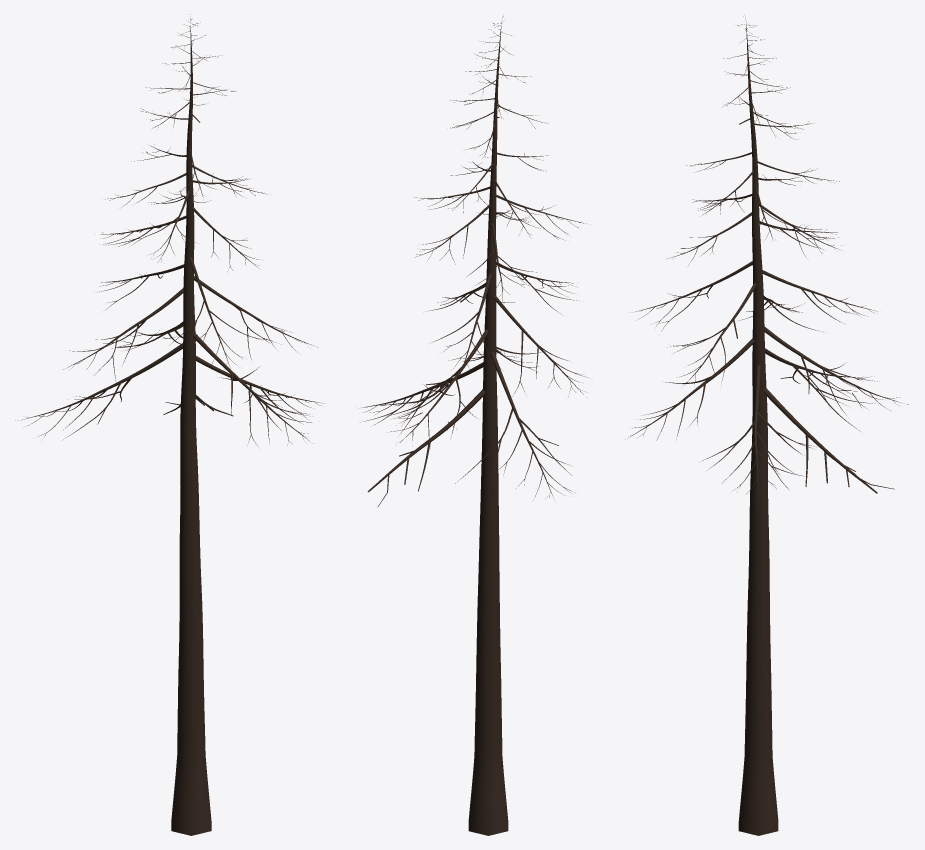
The model's file is deadtreev2.fbx.
3 views of the same model, side by side, from view 1: azimuth 30°, elevation 25°; view 2: azimuth 150°, elevation 25°; view 3: azimuth 270°, elevation 25° (orthographic).
Parts seen in each view (by area): view 1: tree; view 2: tree; view 3: tree.
Boxes of the visible parts, x1=… form: tree: x1=15, y1=14, x2=323, y2=835; tree: x1=360, y1=16, x2=587, y2=835; tree: x1=625, y1=16, x2=908, y2=835.
Bounding box in the file's own units: 1167 × 1211 × 3617.
